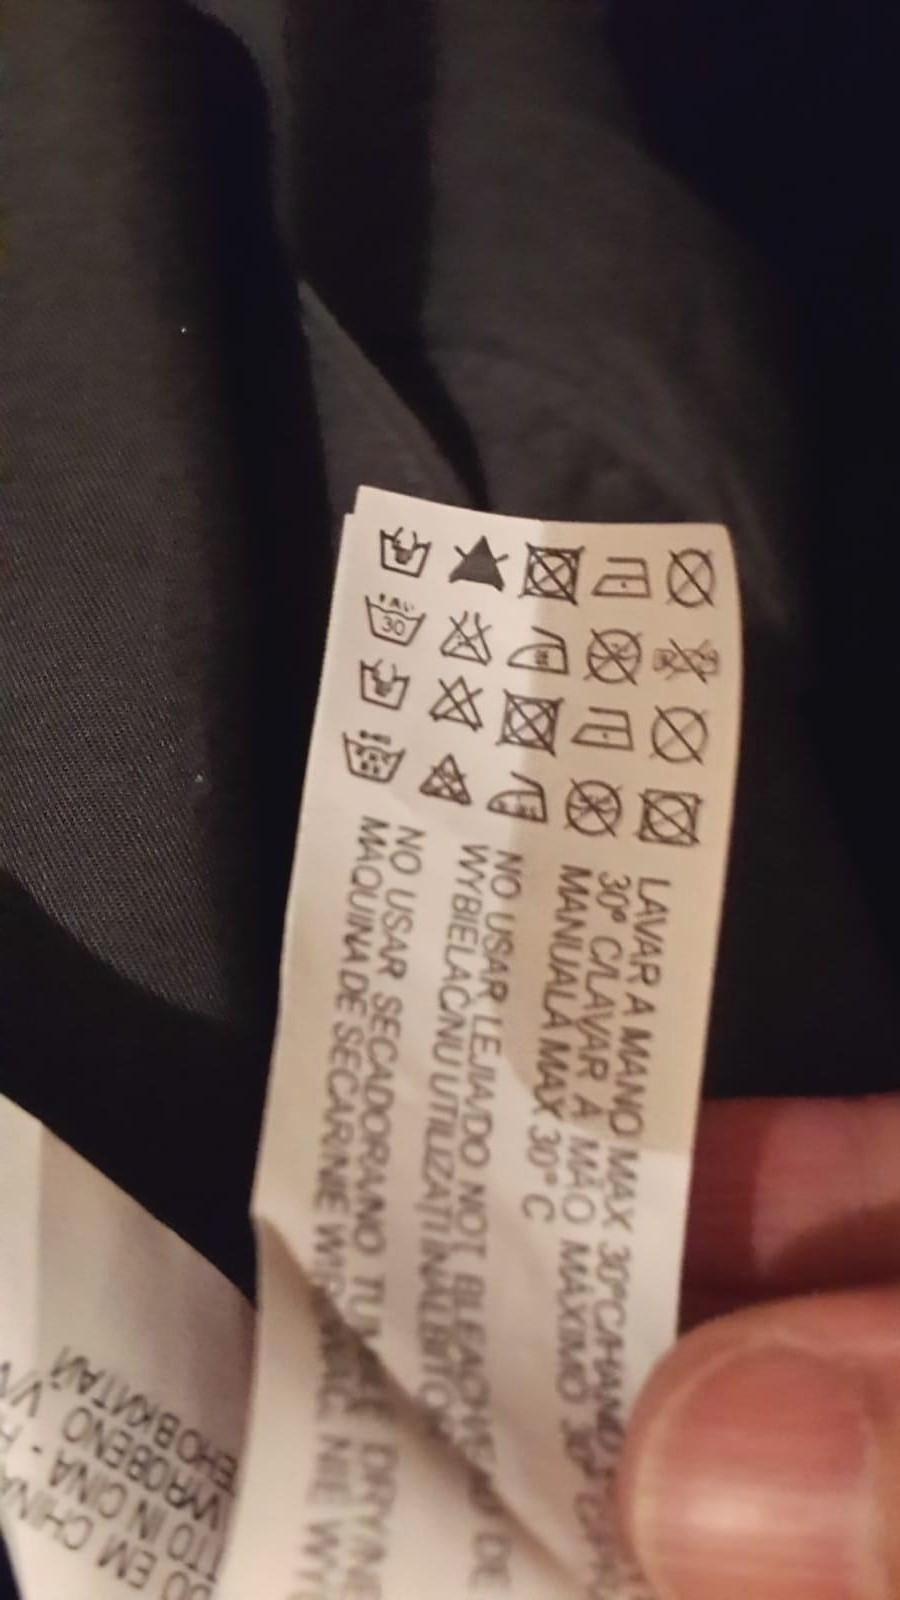30C: (362, 595, 433, 649)
DN_bleach: (444, 537, 516, 593), (429, 674, 490, 730), (422, 747, 480, 805)
DN_dry_clean: (565, 774, 638, 845), (648, 699, 719, 767), (663, 542, 724, 613), (587, 623, 643, 688)
DN_tumble_dry: (633, 779, 707, 849), (495, 689, 570, 755), (521, 535, 587, 608)
DN_wring: (653, 627, 733, 688)
hand_wash: (338, 727, 411, 791), (353, 657, 416, 715), (378, 527, 436, 579)
iron: (509, 623, 575, 677)
iron_low: (485, 771, 556, 827), (575, 698, 638, 755), (595, 551, 658, 599)
